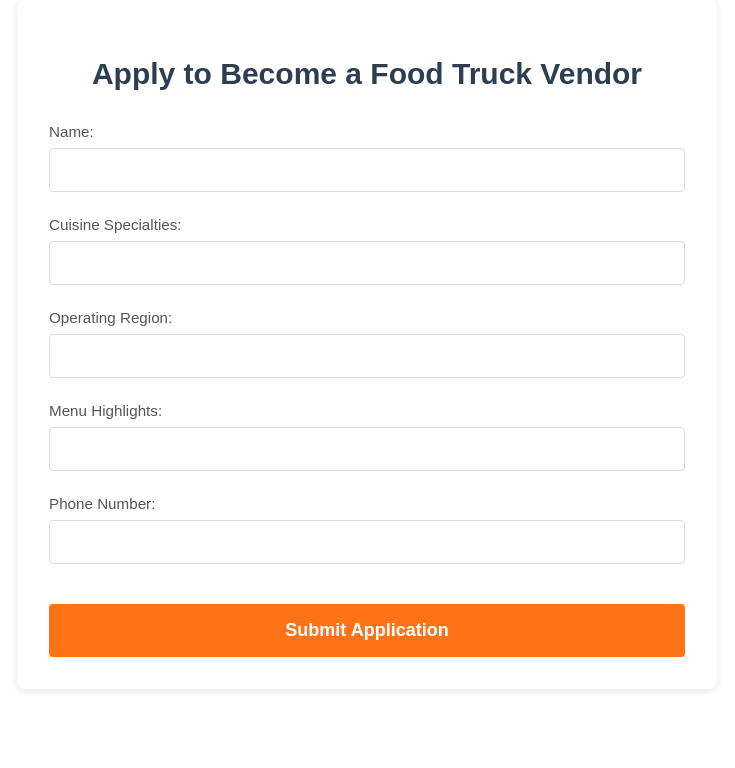
submits_invalid_application_form
The width and height of the screenshot is (735, 768).
Note: Attempt to submit without filling in the form
Click the button "Submit Application": (367, 630) [49,604,685,657]
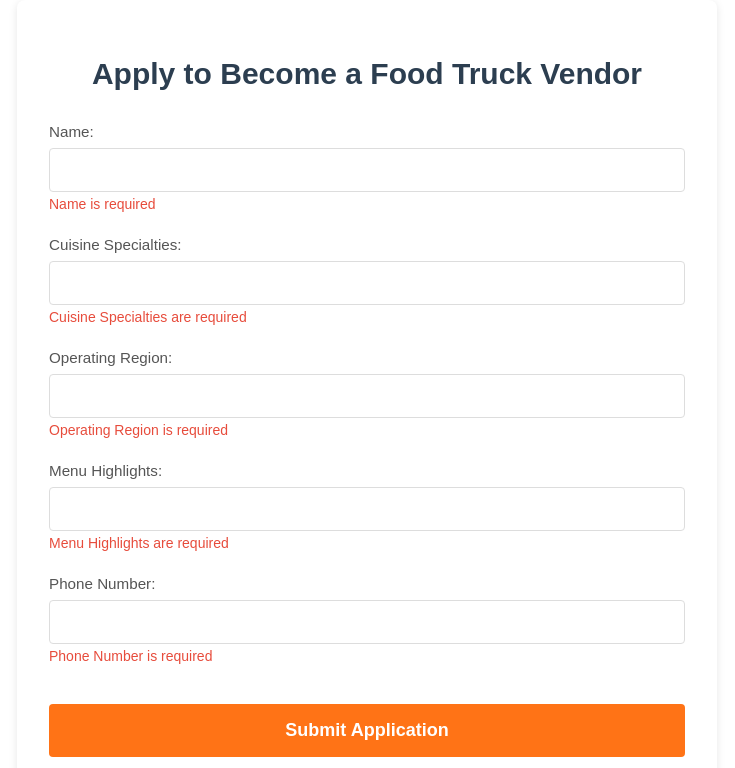
Check: the text "Name is required" is shown, box [49,196,156,212]
Check: the text "Cuisine Specialties are required" is shown, box [49,309,247,325]
Check: the text "Operating Region is required" is shown, box [49,422,228,438]
